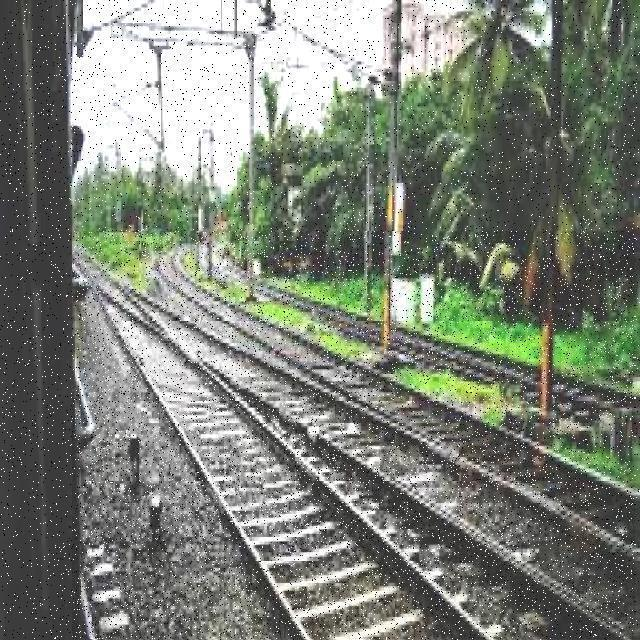rail: (73, 232, 636, 640)
